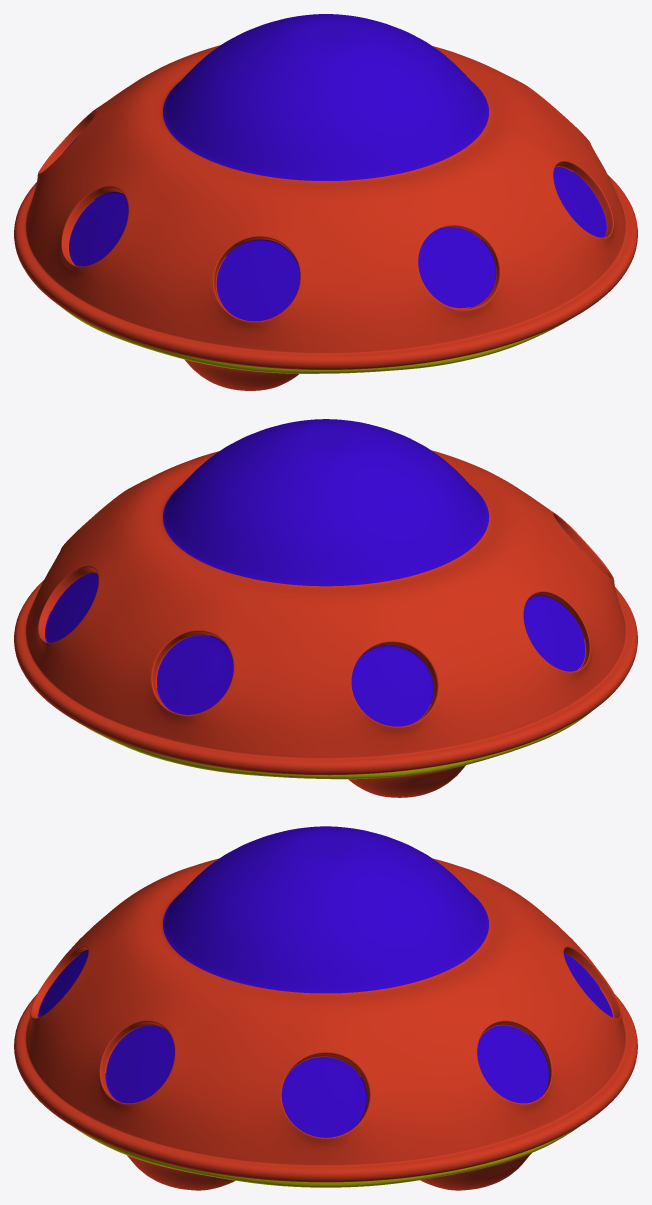
The model's file is ufo.obj.
The picture shows the model from 3 angles, top to bottom: view 1: azimuth 30°, elevation 25°; view 2: azimuth 150°, elevation 25°; view 3: azimuth 270°, elevation 25°; orthographic projection.
Parts seen in each view (by area): view 1: Circle_Circle_Material.001, Circle_Circle_Material.003, Circle_Circle_Material.004; view 2: Circle_Circle_Material.001, Circle_Circle_Material.003, Circle_Circle_Material.004; view 3: Circle_Circle_Material.001, Circle_Circle_Material.003, Circle_Circle_Material.004.
Boxes of the visible parts, x1,y1,x2,y2 form: Circle_Circle_Material.001: [14, 45, 637, 390]; Circle_Circle_Material.003: [63, 14, 606, 321]; Circle_Circle_Material.004: [60, 306, 570, 373]; Circle_Circle_Material.001: [14, 450, 637, 797]; Circle_Circle_Material.003: [44, 419, 585, 726]; Circle_Circle_Material.004: [79, 711, 591, 779]; Circle_Circle_Material.001: [14, 858, 637, 1190]; Circle_Circle_Material.003: [38, 826, 612, 1137]; Circle_Circle_Material.004: [74, 1126, 579, 1187].
Bounding box in the file's own units: 4.02 × 1.94 × 4.02.
